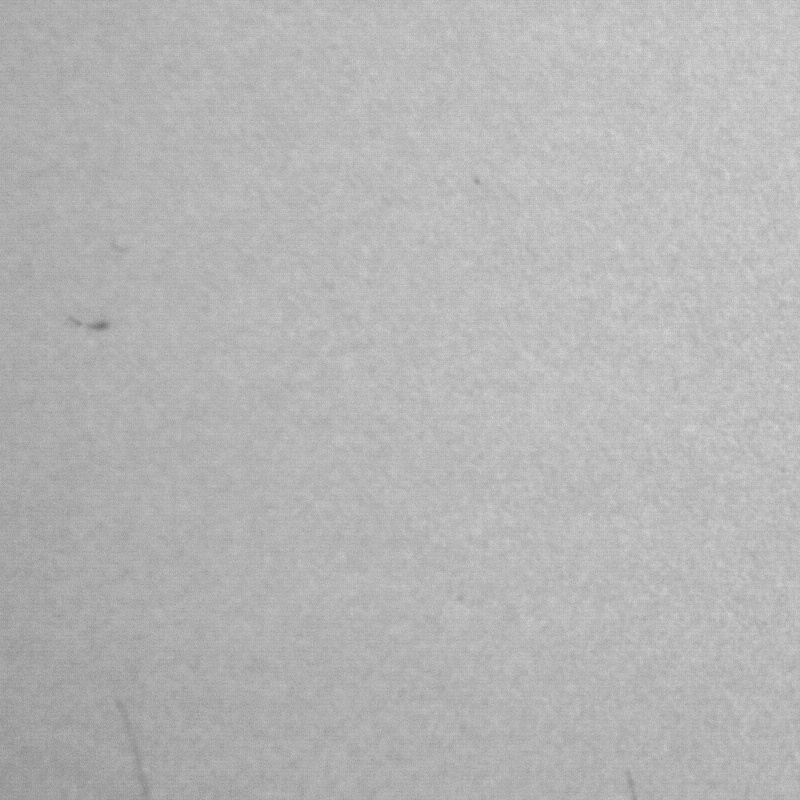defect: (119, 705, 149, 800), (64, 316, 112, 333), (626, 769, 640, 798)
